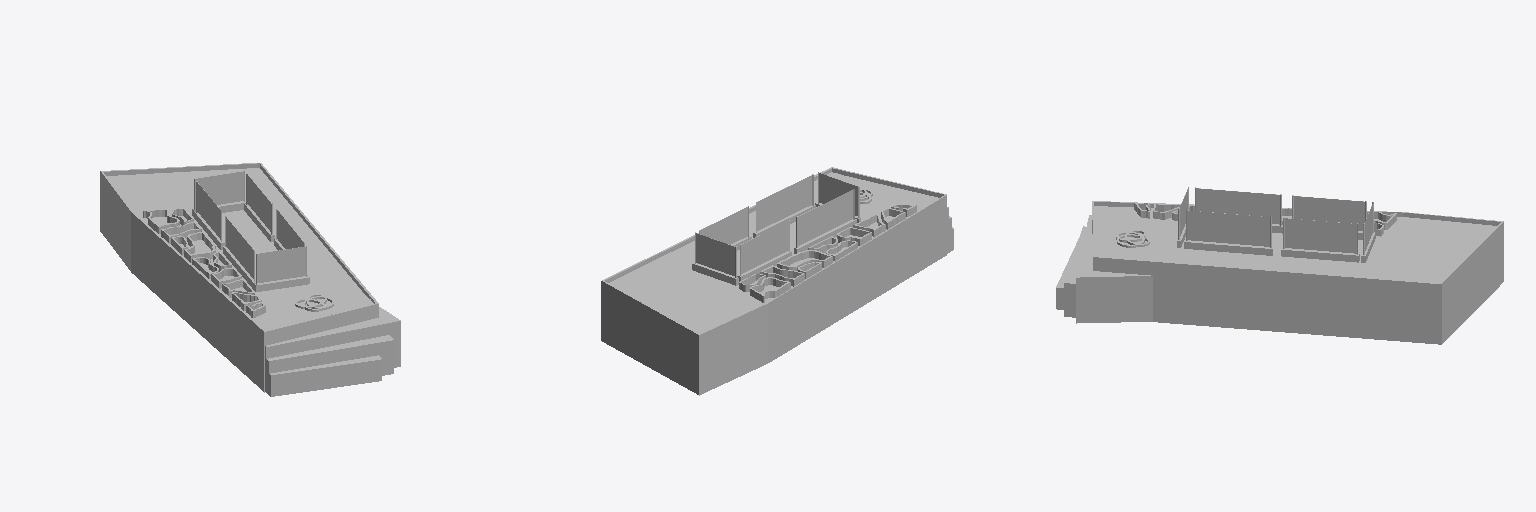
File: Docken Playground.obj
The picture shows the model from 3 angles: view 1: azimuth 30°, elevation 25°; view 2: azimuth 150°, elevation 25°; view 3: azimuth 270°, elevation 25°; orthographic projection.
Visible parts, largest first — view 1: Box013, Box002, Box004, Box001, Box003, Plane021, Plane020, Plane015, Plane014, Plane018, Plane019; view 2: Box013, Box002, Plane019, Plane015, Plane014, Plane020, Plane018, Plane021, Plane006, Plane003; view 3: Box013, Box002, Box001, Plane019, Plane018, Plane015, Plane014, Box003, Box008, Box005.
Part boxes in pixels (bbox=[...]): Box013: bbox=[100, 163, 378, 392]; Box002: bbox=[106, 168, 373, 330]; Box004: bbox=[269, 355, 381, 396]; Box001: bbox=[265, 307, 400, 367]; Box003: bbox=[265, 335, 393, 394]; Plane021: bbox=[257, 246, 305, 283]; Plane020: bbox=[196, 171, 243, 204]; Plane015: bbox=[226, 217, 253, 278]; Plane014: bbox=[197, 182, 220, 239]; Plane018: bbox=[247, 174, 270, 231]; Plane019: bbox=[277, 210, 303, 248]; Box013: bbox=[601, 167, 946, 395]; Box002: bbox=[609, 172, 938, 333]; Plane019: bbox=[757, 175, 811, 230]; Plane015: bbox=[798, 190, 852, 245]; Plane014: bbox=[741, 221, 788, 273]; Plane020: bbox=[696, 233, 734, 275]; Plane018: bbox=[700, 207, 747, 244]; Plane021: bbox=[819, 173, 857, 215]; Plane006: bbox=[777, 250, 832, 270]; Plane003: bbox=[750, 277, 790, 302]; Box013: bbox=[1092, 201, 1503, 344]; Box002: bbox=[1094, 206, 1496, 282]; Box001: bbox=[1076, 215, 1152, 323]; Plane019: bbox=[1187, 210, 1269, 246]; Plane018: bbox=[1285, 218, 1356, 253]; Plane015: bbox=[1196, 188, 1279, 224]; Plane014: bbox=[1294, 196, 1364, 230]; Box003: bbox=[1064, 226, 1085, 317]; Box008: bbox=[1184, 240, 1272, 255]; Box005: bbox=[1281, 248, 1359, 262].
Size of the model in its own units: 369 by 193 by 837.